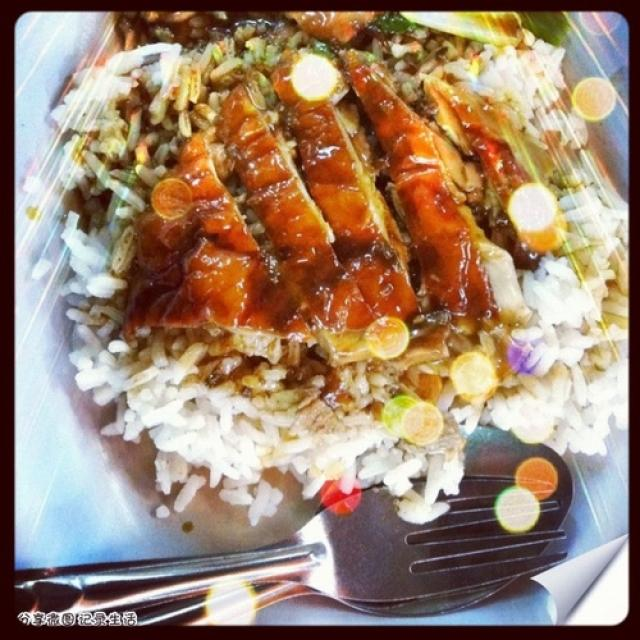米饭主食: (51, 15, 594, 493)
